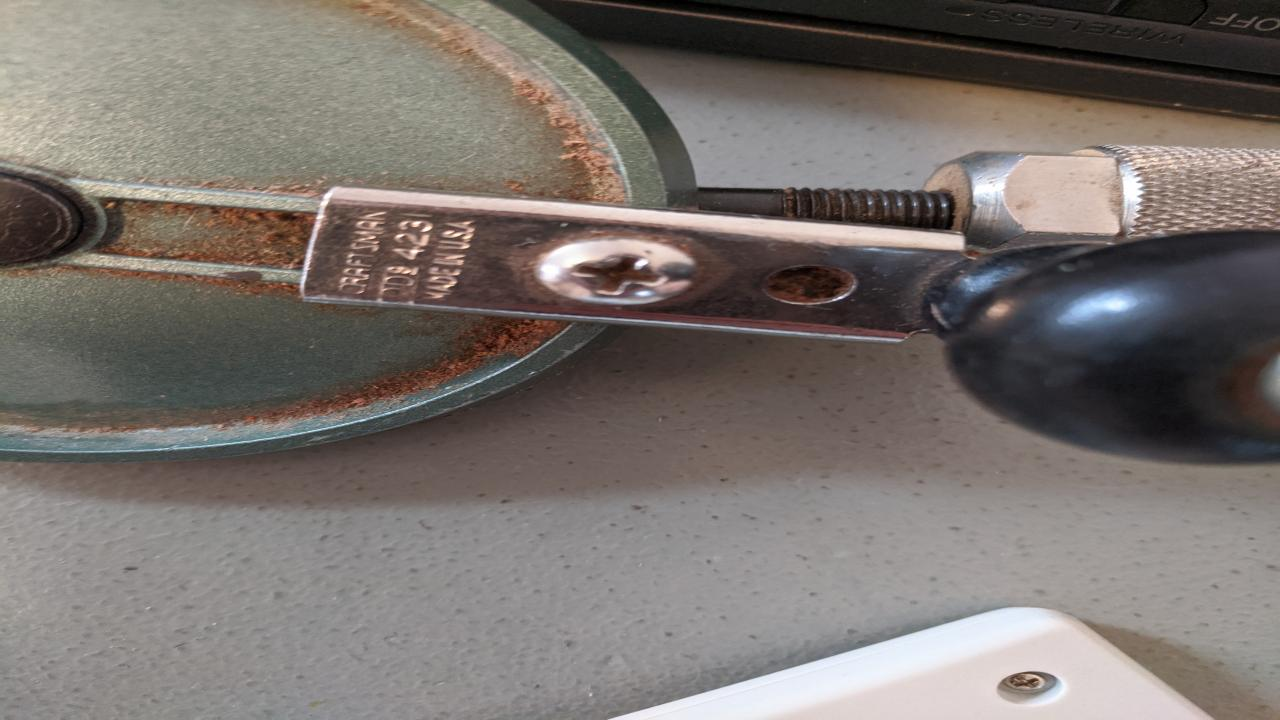CRS: (536, 231, 700, 314), (996, 666, 1067, 699)
